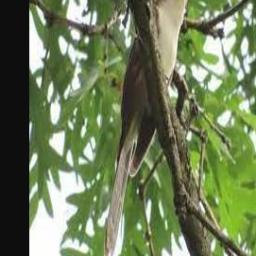Cuckoo: (103, 0, 201, 256)
